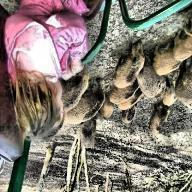boar: (62, 93, 99, 134), (115, 44, 139, 90), (137, 70, 162, 109), (66, 74, 93, 110), (148, 52, 176, 80), (149, 106, 170, 141), (117, 91, 141, 118), (174, 31, 192, 64), (180, 70, 192, 115), (110, 87, 131, 111), (118, 107, 136, 133), (106, 97, 111, 128)
